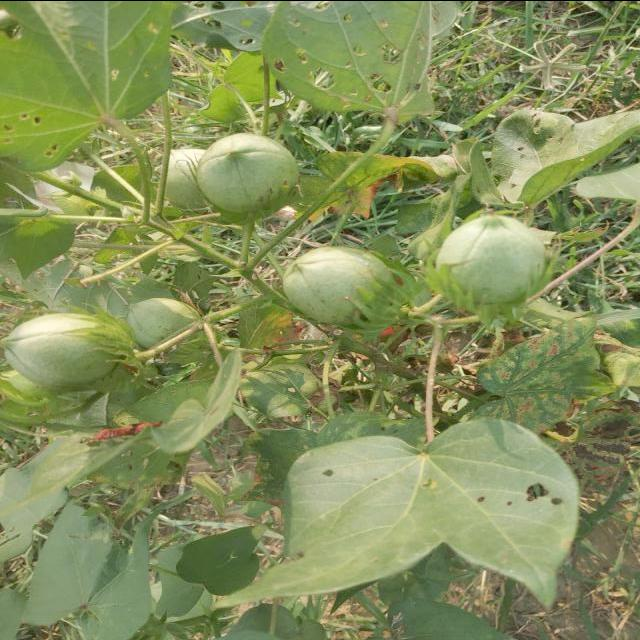Early Boll: (423, 206, 553, 326), (0, 303, 130, 399), (277, 244, 398, 332), (197, 123, 301, 216), (125, 294, 213, 359)
